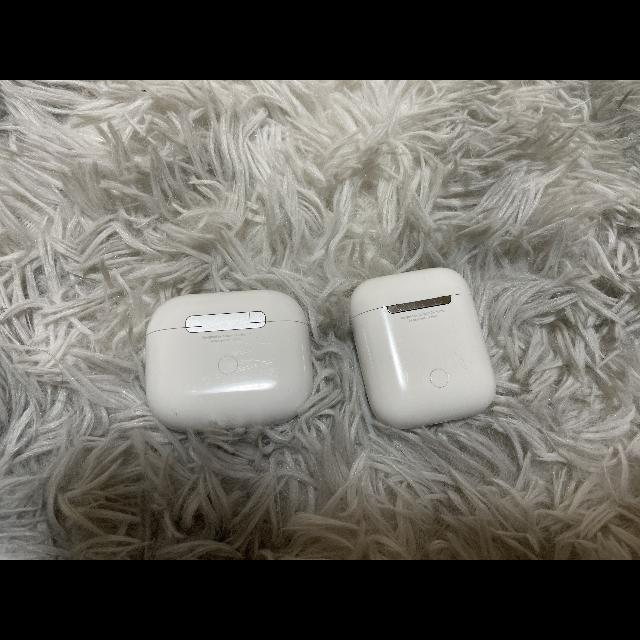airpod2: (344, 264, 504, 431)
airpod3: (140, 284, 316, 434)
